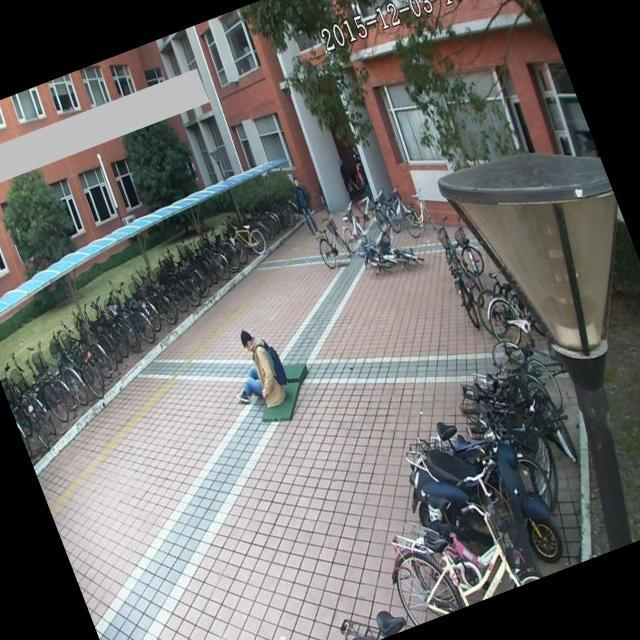person: (214, 316, 296, 418), (283, 169, 325, 241)
